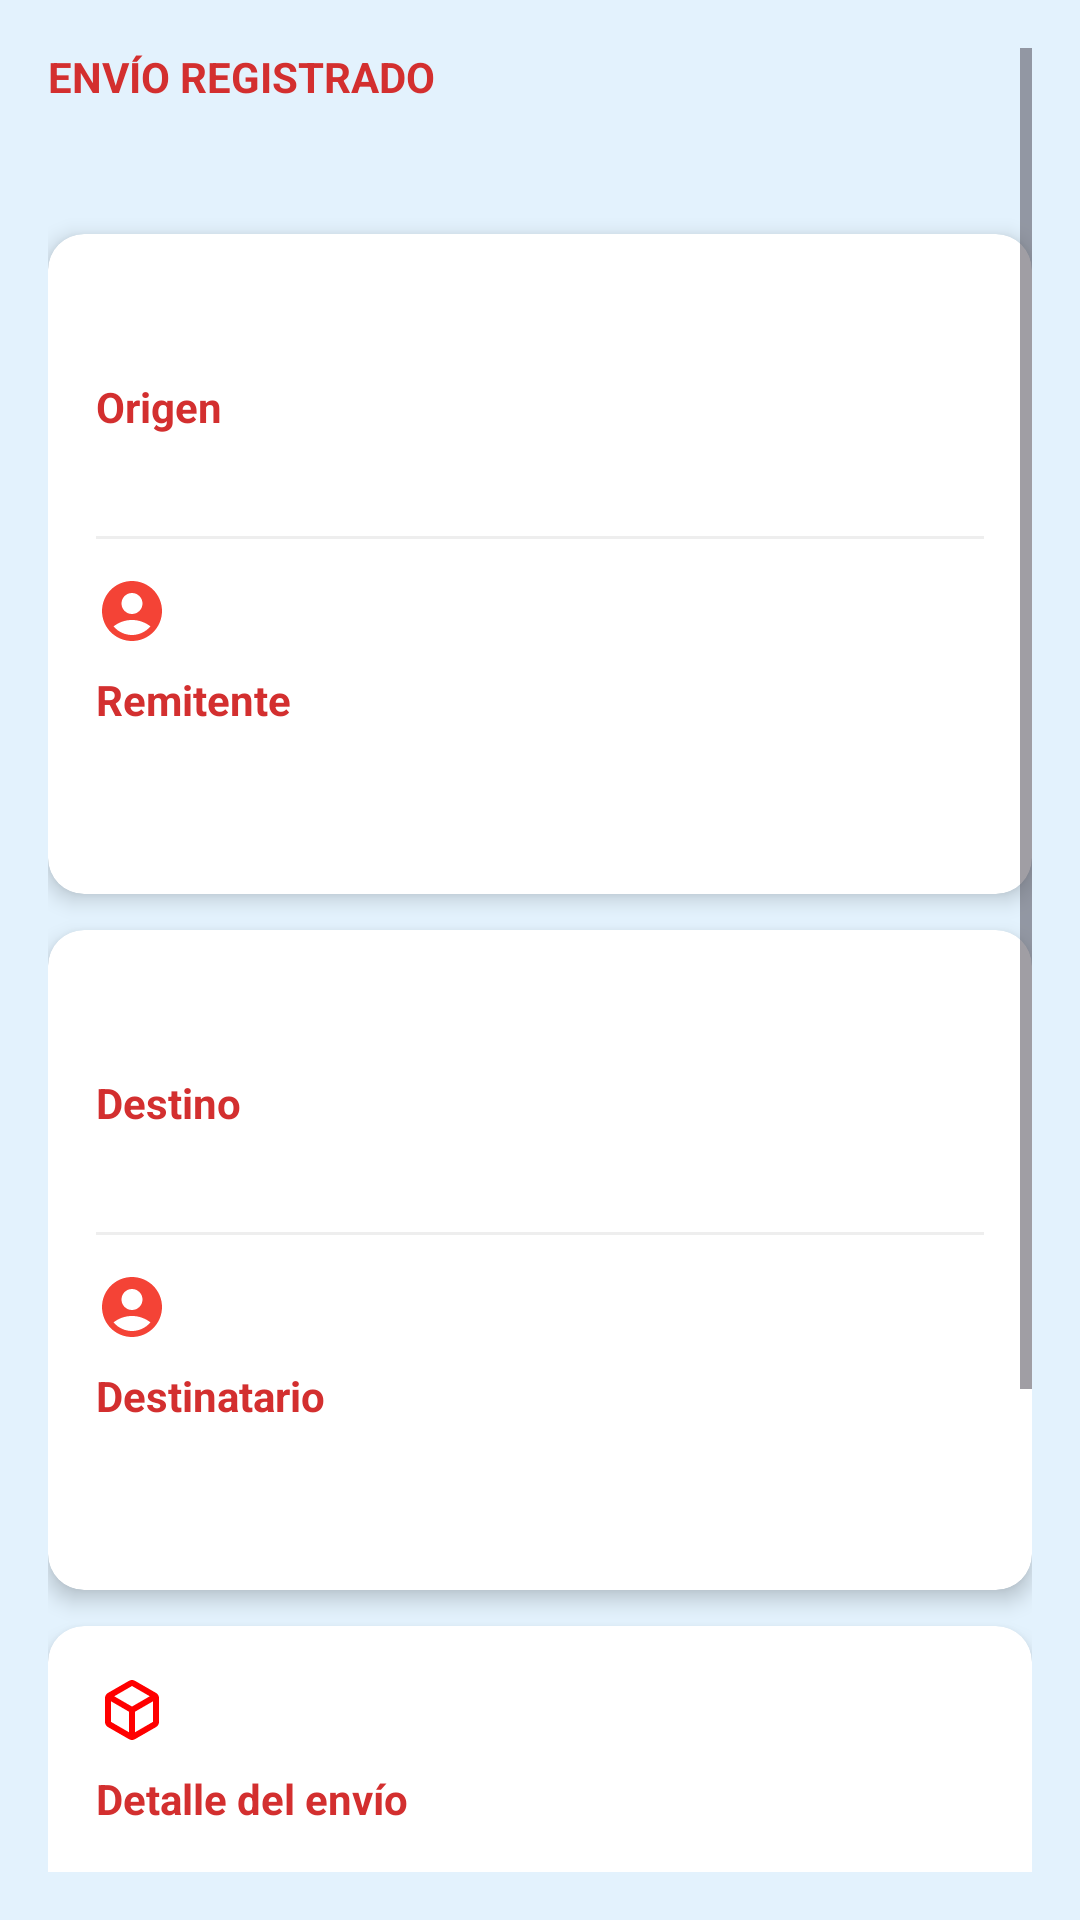

Icons on this 1080px x 1920px Android screen, each with its box as (x1, y1, x2, y2):
account circle: (102, 581, 162, 641), (102, 1277, 162, 1337)
deployed code: (105, 1680, 159, 1740)
